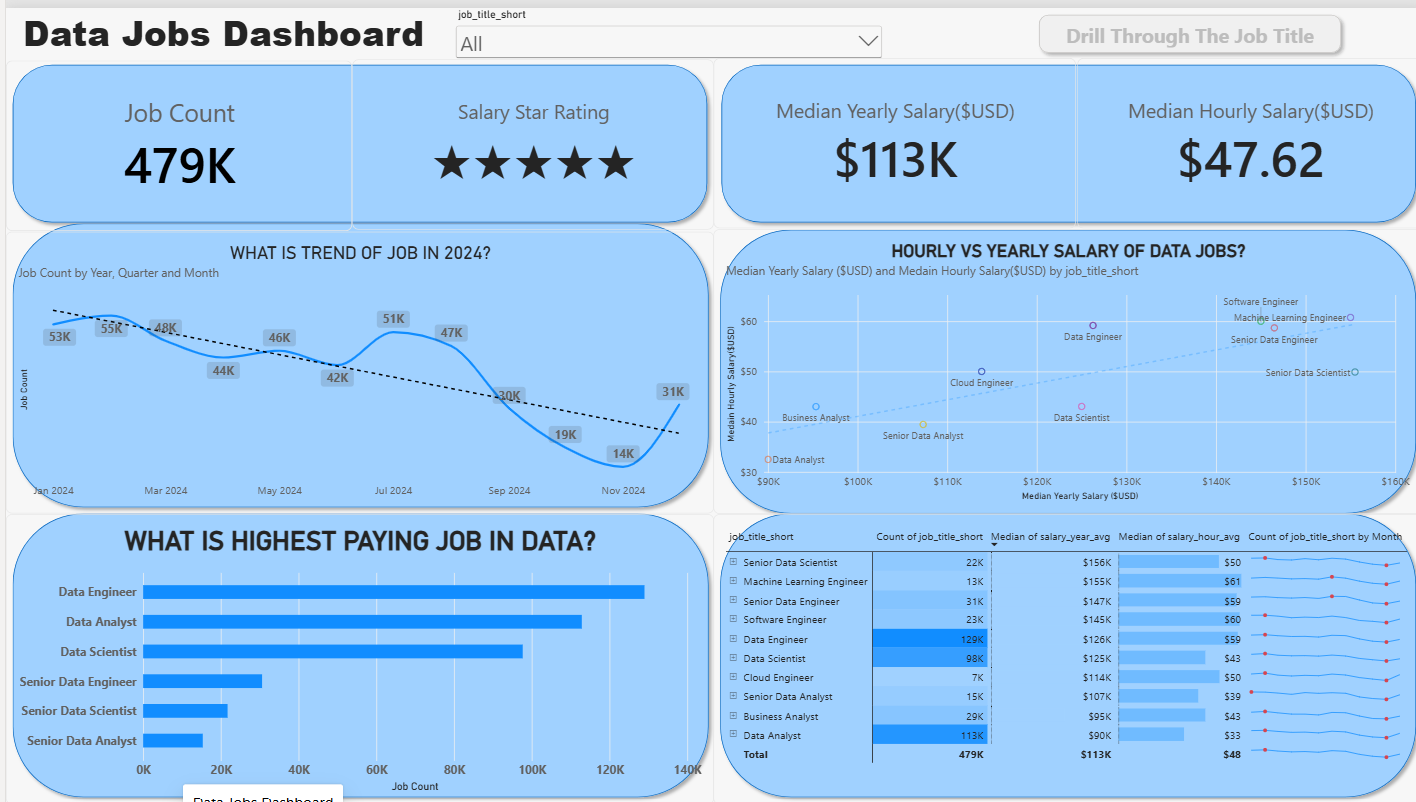

The dashboard page shown, as its layout file describes it:
{"tool":"powerbi","page":{"name":"Data Jobs Dashboard","canvas":[1920,1080],"ordinal":0},"visuals":[{"type":"group","id":"g1","title":"Background","box":[0,68,1920.4,1011.6],"z":0},{"type":"shape","box":[0,68,959.3,232],"z":0,"group":"g1"},{"type":"textbox","title":"Data Jobs Dashboard","box":[0,0,589.5,68],"z":1000},{"type":"shape","box":[961,68,959.3,232],"z":1000,"group":"g1"},{"type":"slicer","fields":{"Values":["job_postings_flat.job_title_short"]},"box":[605.2,0,587.8,68],"z":2000},{"type":"shape","box":[0,282.5,961,402.9],"z":2000,"group":"g1"},{"type":"cardVisual","fields":{"Data":["Median(job_postings_flat.salary_year_avg)"]},"box":[959.3,68,491.9,232],"z":3000},{"type":"shape","box":[959.3,291.3,961,402.9],"z":3000,"group":"g1"},{"type":"cardVisual","fields":{"Data":["Median(job_postings_flat.salary_hour_avg)"]},"box":[1451.2,68,469.2,232],"z":4000},{"type":"shape","box":[0,676.7,961,402.9],"z":4000,"group":"g1"},{"type":"cardVisual","fields":{"Data":["job_postings_flat.Sum of salary_year_avg star rating"]},"box":[469.2,69.8,490.1,232],"z":5000},{"type":"shape","box":[959.3,676.7,961,402.9],"z":5000,"group":"g1"},{"type":"cardVisual","fields":{"Data":["CountNonNull(job_postings_flat.job_title_short)"]},"box":[0,71.5,469.2,232],"z":6000},{"type":"lineChart","title":"WHAT IS TREND OF JOB IN 2024?","fields":{"Category":["job_postings_flat.job_posted_date.Variation.Date Hierarchy.Year","job_postings_flat.job_posted_date.Variation.Date Hierarchy.Quarter","job_postings_flat.job_posted_date.Variation.Date Hierarchy.Month","job_postings_flat.job_posted_date.Variation.Date Hierarchy.Day"],"Y":["CountNonNull(job_postings_flat.job_title)"]},"box":[0,303.5,959.3,382],"z":7000},{"type":"barChart","title":"WHAT IS HIGHEST PAYING JOB IN DATA?","fields":{"Category":["job_postings_flat.job_title_short"],"Y":["CountNonNull(job_postings_flat.job_title_short)"]},"box":[0,685.5,959.3,394.2],"z":8000},{"type":"scatterChart","title":"HOURLY VS YEARLY SALARY OF DATA JOBS?","fields":{"Series":["job_postings_flat.job_title_short"],"X":["Median(job_postings_flat.salary_year_avg)"],"Y":["Median(job_postings_flat.salary_hour_avg)"]},"box":[959.3,300,961,385.5],"z":9000},{"type":"pivotTable","fields":{"Rows":["job_postings_flat.job_title_short","job_postings_flat.job_posted_date.Variation.Date Hierarchy.Quarter"],"Values":["CountNonNull(job_postings_flat.job_title_short)","Median(job_postings_flat.salary_year_avg)","Median(job_postings_flat.salary_hour_avg)","SparklineData(CountNonNull(job_postings_flat.job_title_short)_[job_postings_flat.job_posted_date.Variation.Date Hierarch"]},"box":[959.3,685.5,961,394.2],"z":10000},{"type":"actionButton","box":[1390.1,0,427.3,69.8],"z":11000}]}

Visuals, with their boxes in screenshot pixels (x1, y1, x2, y2), scaled from the page's 1920x1080 canvas onto the 1416x802 screenshot:
"Background" group: 0,50,1415,801
shape: 0,50,707,223
"Data Jobs Dashboard" textbox: 0,0,435,50
shape: 709,50,1415,223
slicer - job_postings_flat.job_title_short: 446,0,880,50
shape: 0,210,709,509
cardVisual - Median(job_postings_flat.salary_year_avg): 707,50,1070,223
shape: 707,216,1415,516
cardVisual - Median(job_postings_flat.salary_hour_avg): 1070,50,1415,223
shape: 0,503,709,801
cardVisual - job_postings_flat.Sum of salary_year_avg star rating: 346,52,707,224
shape: 707,503,1415,801
cardVisual - CountNonNull(job_postings_flat.job_title_short): 0,53,346,225
"WHAT IS TREND OF JOB IN 2024?" lineChart: 0,225,707,509
"WHAT IS HIGHEST PAYING JOB IN DATA?" barChart: 0,509,707,801
"HOURLY VS YEARLY SALARY OF DATA JOBS?" scatterChart: 707,223,1415,509
pivotTable - job_postings_flat.job_title_short x job_postings_flat.job_posted_date.Variation.Date Hierarchy.Quarter: 707,509,1415,801
actionButton: 1025,0,1340,52
